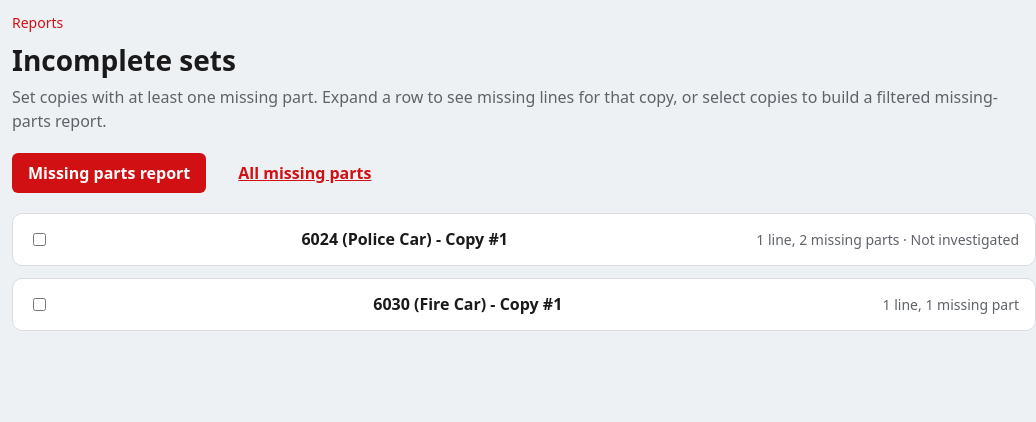
Test: IncompleteSetsReportPage › expands details to show missing lines
The width and height of the screenshot is (1036, 422).
Expected: the link "6024 (Police Car) - Copy #1" is shown, [302,228,508,250]
Click the text "1 line, 2 missing parts · Not investigated" at coordinates (888, 239), box [756,229,1019,250]
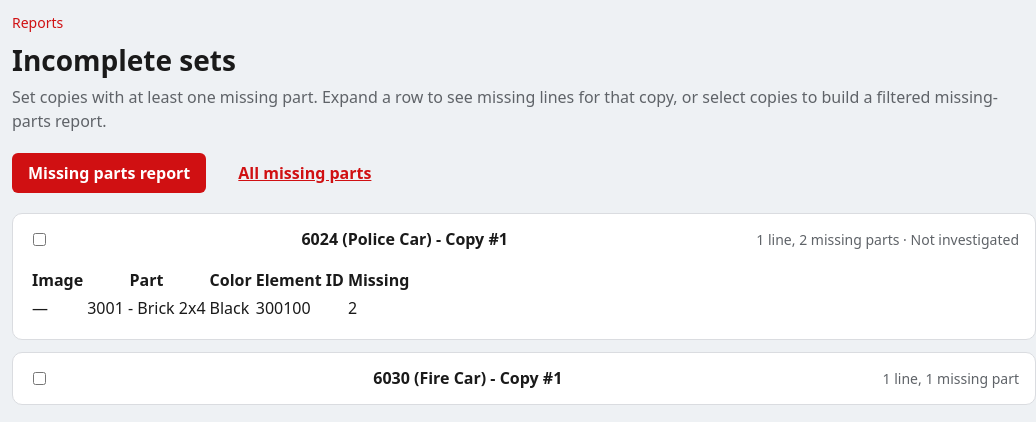
Expected: the text "Brick 2x4" is shown, [137,297,206,319]
Expected: the text "300100" is shown, [255,295,345,321]
Expected: the text "2" is shown, [347,295,410,321]
